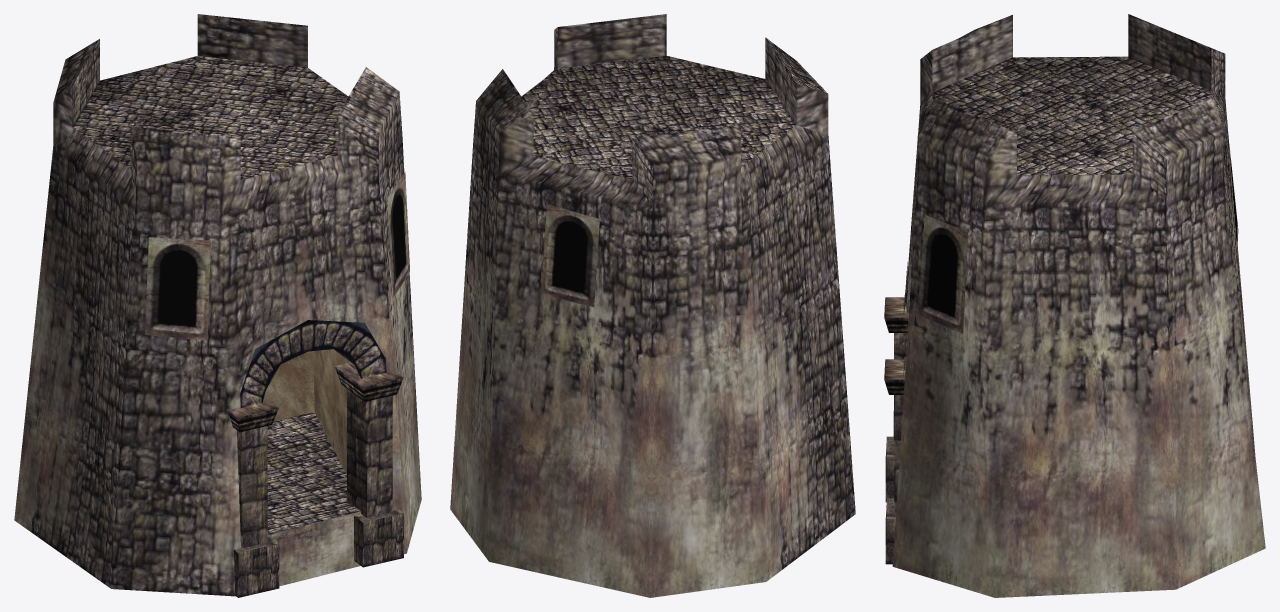
The model's file is fort_guardhouse.fbx.
3 renders of one model, left to right at view 1: azimuth 30°, elevation 25°; view 2: azimuth 150°, elevation 25°; view 3: azimuth 270°, elevation 25°, orthographic. The views are drawn at different scales.
Parts seen in each view (by area): view 1: walls, floor, khsmallfort:windowFrame15, arch, polySurface253, foundation, polySurface253.001, pCube41, pCube41.001, khsmallfort:windowFrame3, pCube42, pCube42.001; view 2: walls, khsmallfort:windowFrame16; view 3: walls, khsmallfort:windowFrame3, pCube42.001, polySurface253, pCube42, pCube41, pCube41.001.
Boxes of the visible parts, box(x1,y1,x2,y2) form: walls: box(14, 14, 421, 596); floor: box(267, 411, 360, 534); khsmallfort:windowFrame15: box(145, 237, 210, 340); arch: box(240, 320, 386, 407); polySurface253: box(347, 389, 392, 517); foundation: box(267, 511, 360, 586); polySurface253.001: box(237, 426, 267, 548); pCube41: box(354, 509, 403, 567); pCube41.001: box(233, 537, 279, 597); khsmallfort:windowFrame3: box(387, 172, 409, 296); pCube42: box(334, 362, 403, 401); pCube42.001: box(227, 397, 278, 432); walls: box(450, 14, 855, 597); khsmallfort:windowFrame16: box(541, 204, 599, 307); walls: box(892, 14, 1265, 597); khsmallfort:windowFrame3: box(917, 214, 967, 333); pCube42.001: box(884, 297, 908, 332); polySurface253: box(894, 395, 903, 514); pCube42: box(884, 359, 905, 394); pCube41: box(885, 498, 895, 564); pCube41.001: box(885, 436, 894, 502).
Size of the model in its own units: 1871 by 2442 by 1869.
Materials: 6 (6 with a texture image).
